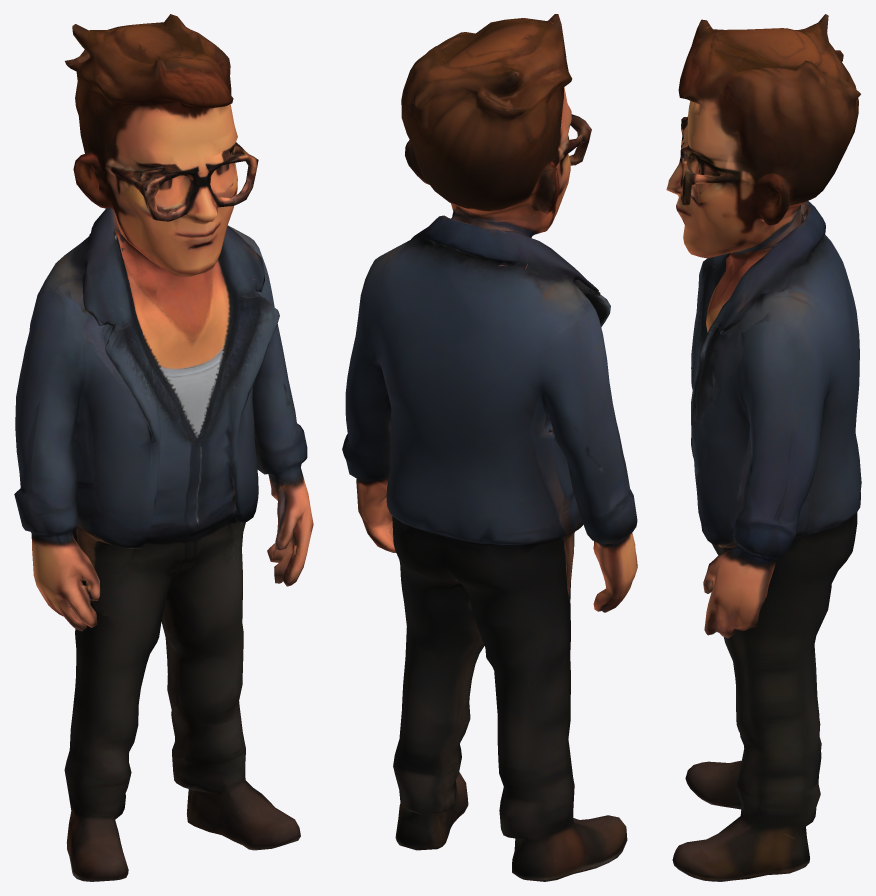
The picture shows the model from 3 angles, left to right: view 1: azimuth 30°, elevation 25°; view 2: azimuth 150°, elevation 25°; view 3: azimuth 270°, elevation 25°; orthographic projection. The views are drawn at different scales.
Bounding box in the file's own units: 0.7242 × 2.01 × 0.4443.
Materials: 1 (1 with a texture image).
